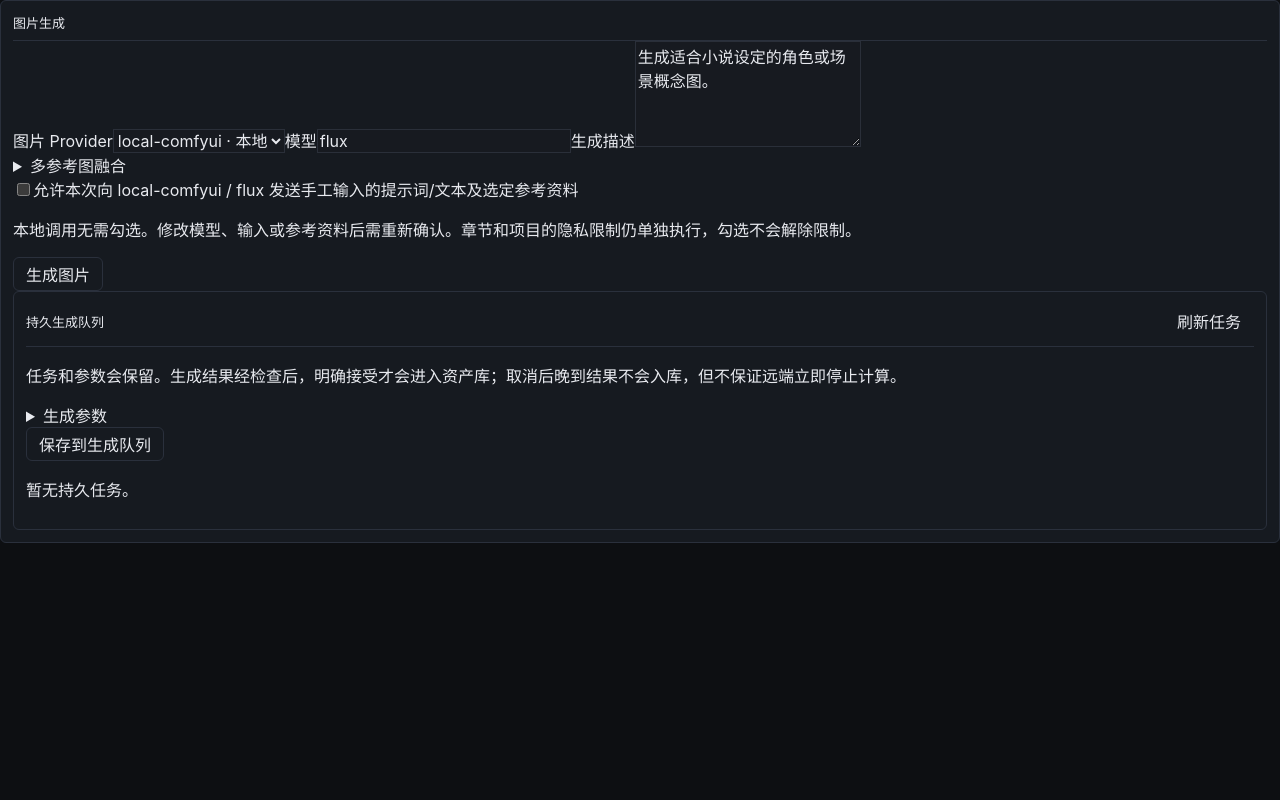
it: switches from a local-first default to DDSHub when references are entered
Click the heading "多参考图融合".
click(78, 166)  # box left=30, top=156, right=126, bottom=176
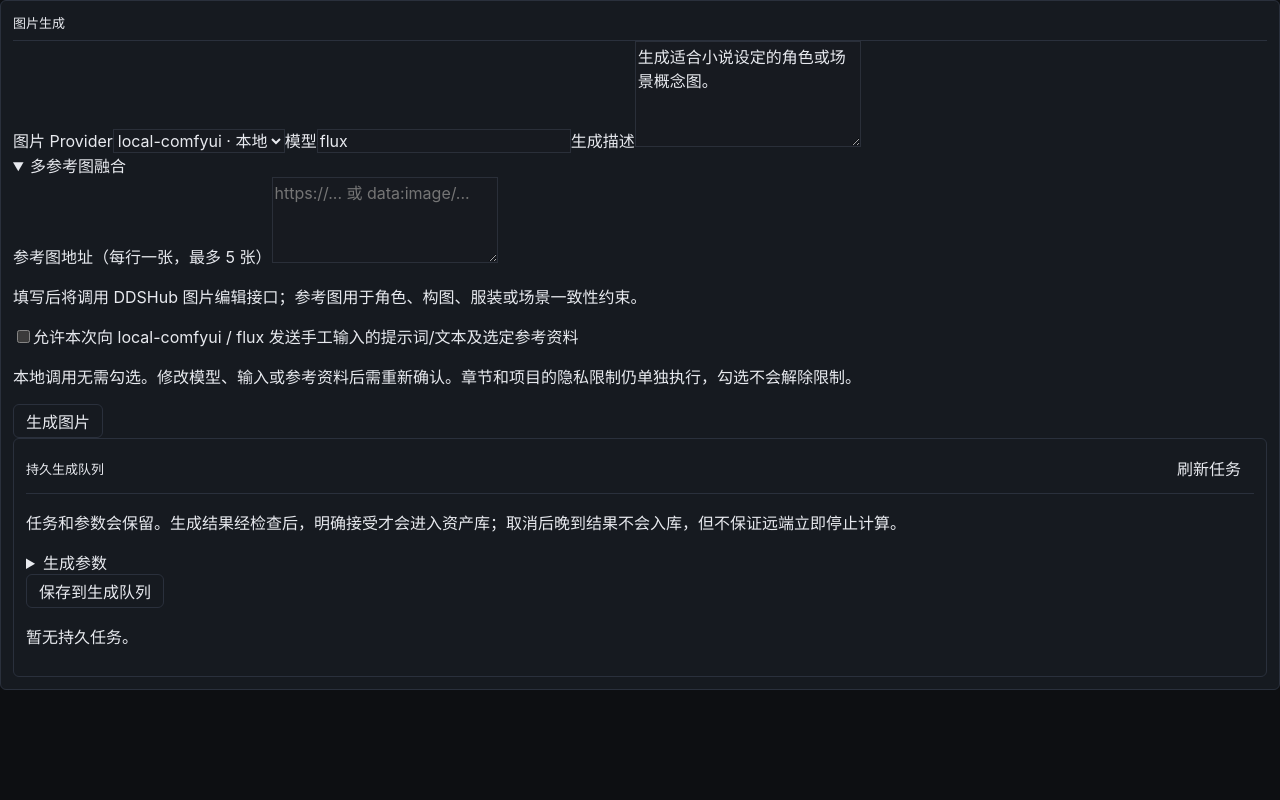
Replace the text in the text box named "多参考图地址" with "https://example.test/reference.png" at (384, 220), box left=272, top=177, right=498, bottom=263
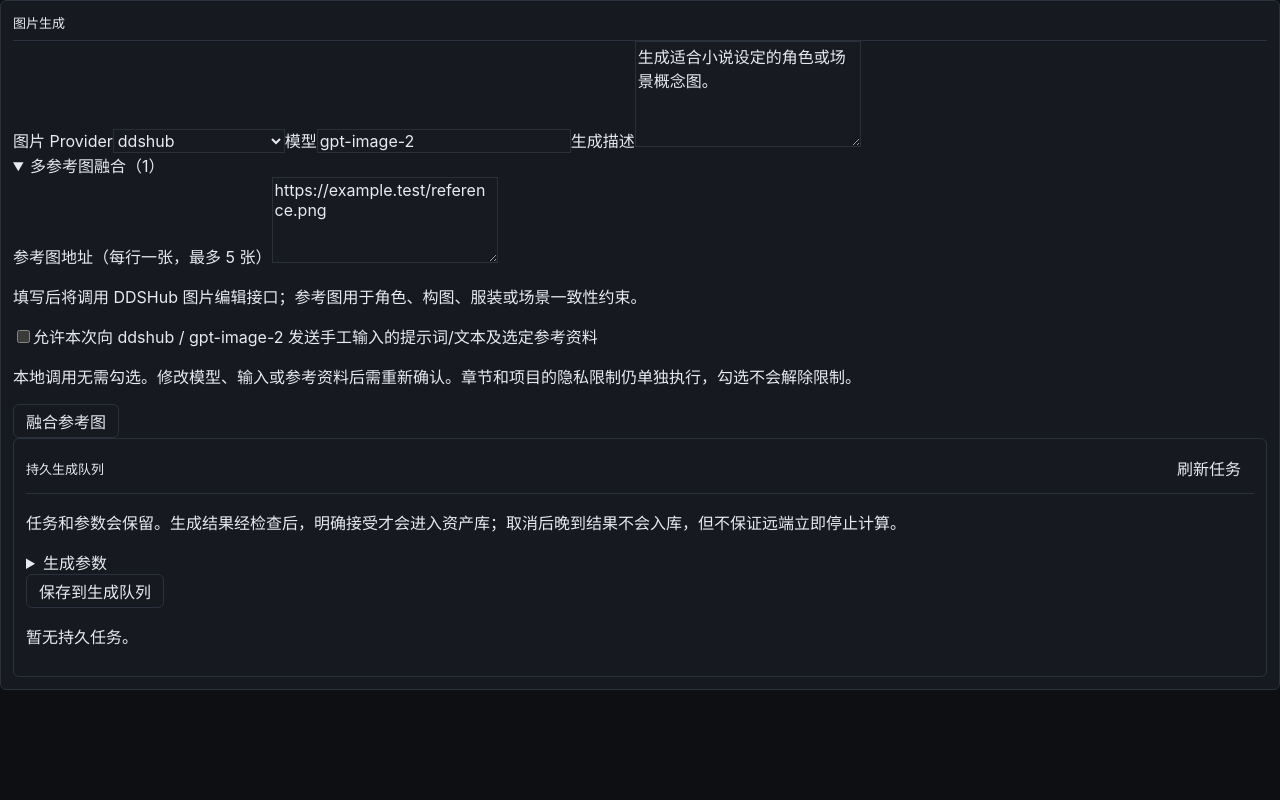
Expected: the button "融合参考图" is enabled, left=13, top=404, right=119, bottom=438
Result: the dropdown labelled "图片 Provider" shows "ddshub" at left=113, top=129, right=285, bottom=153
